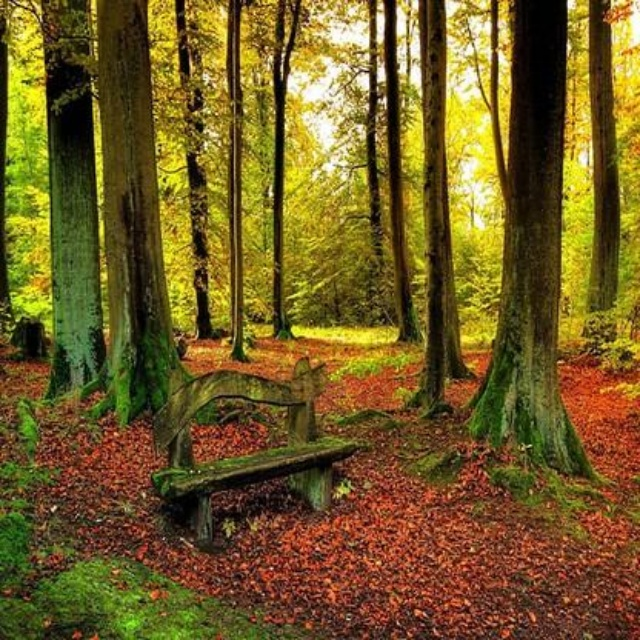obstacle: (140, 366, 371, 566)
